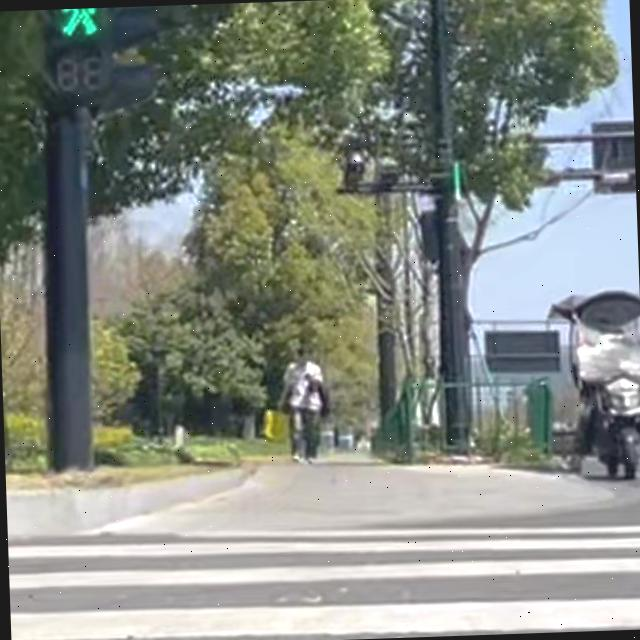curb: (7, 467, 247, 538)
